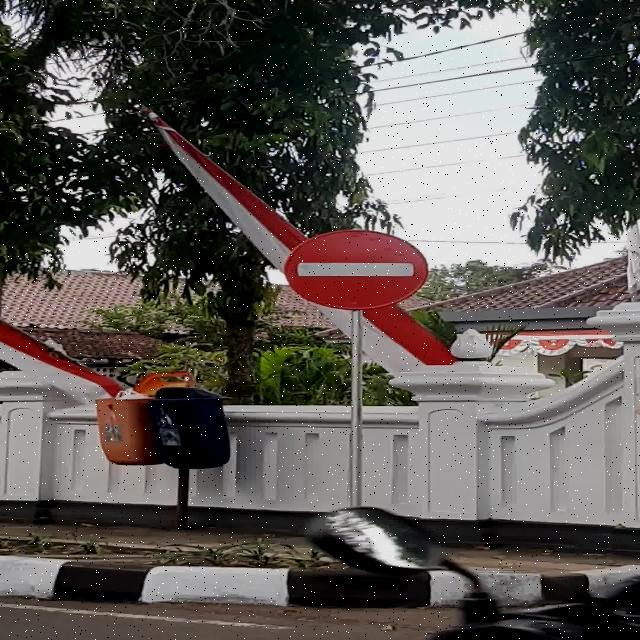Dilarang Masuk: (283, 229, 429, 310)
